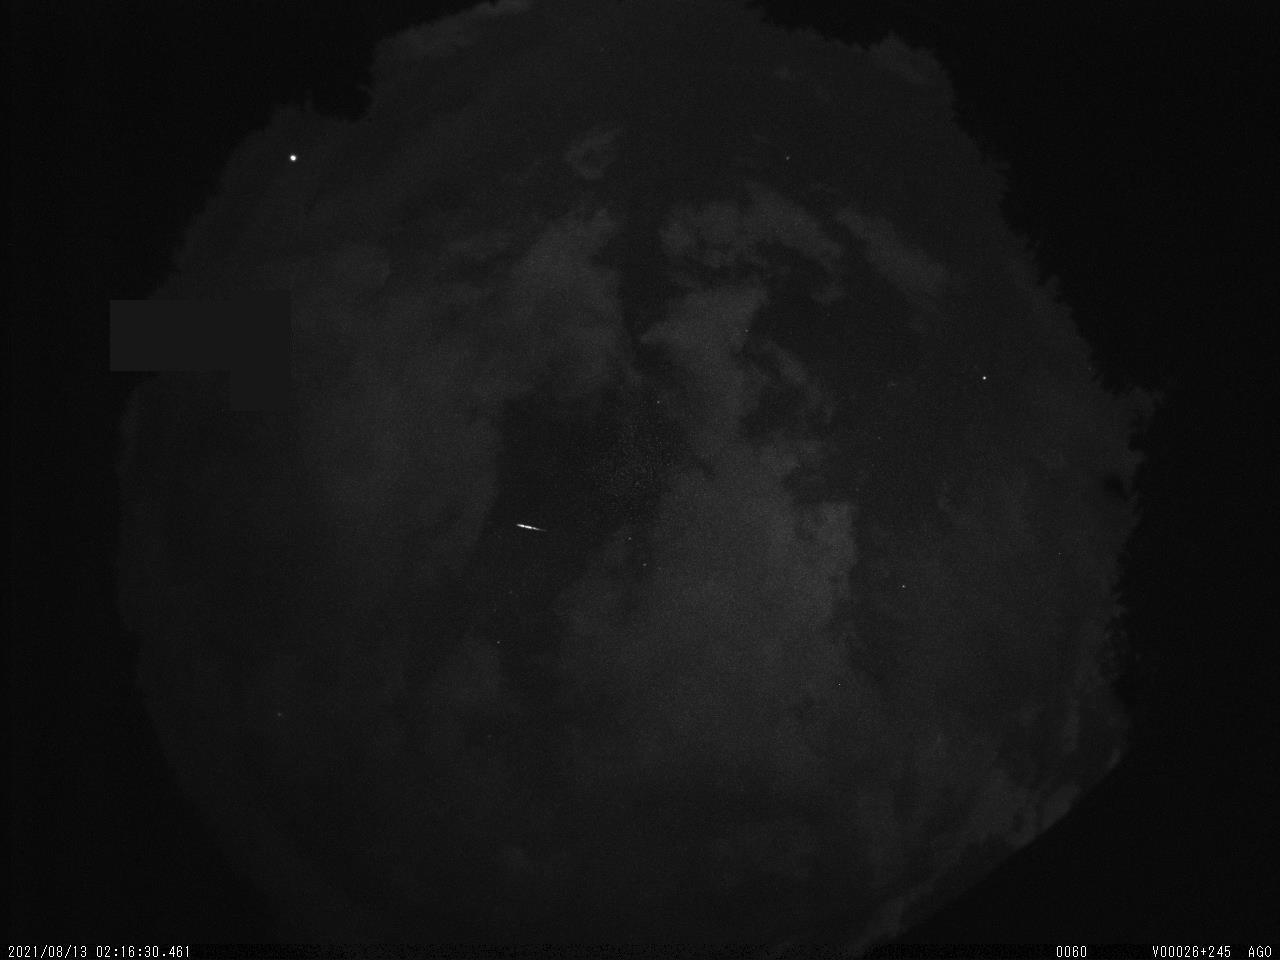meteor: (501, 512, 565, 549)
